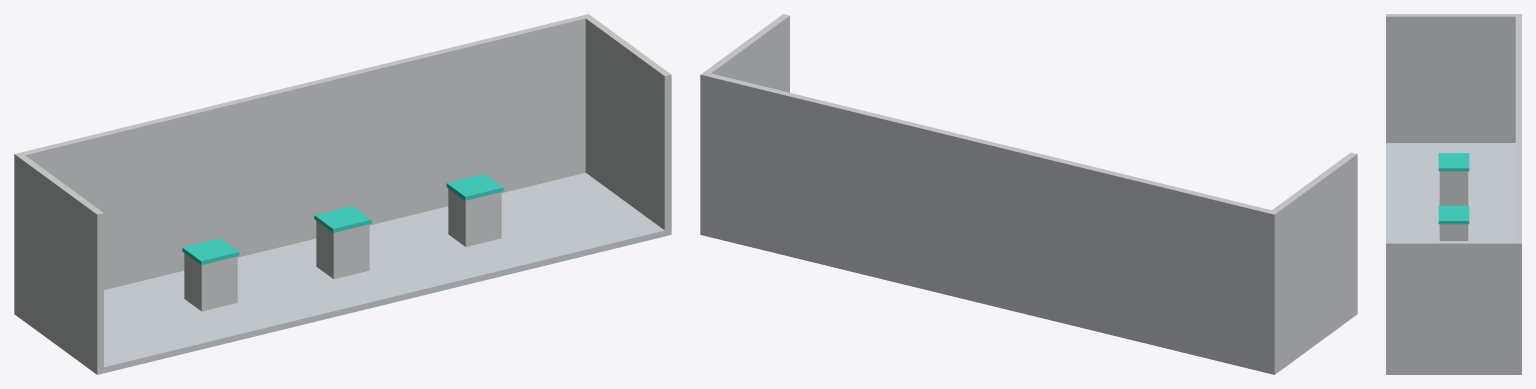
3 renders of one model, left to right at view 1: azimuth 30°, elevation 25°; view 2: azimuth 150°, elevation 25°; view 3: azimuth 270°, elevation 25°, orthographic. The views are drawn at different scales.
Visible parts, largest first — view 1: Exhibition Booth Concept; view 2: Exhibition Booth Concept; view 3: Exhibition Booth Concept.
Boxes of the visible parts, <box> form: Exhibition Booth Concept: <box>14,14,671,374</box>; Exhibition Booth Concept: <box>700,14,1357,374</box>; Exhibition Booth Concept: <box>1386,14,1521,374</box>.
Size of the model in its own units: 12 by 3.2 by 3.
